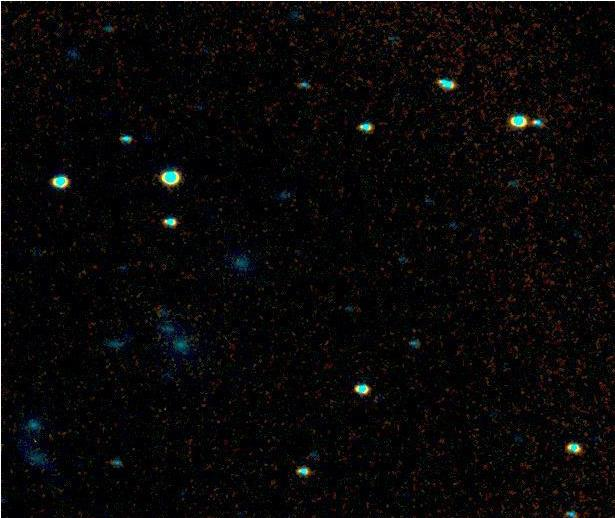star: (114, 321, 144, 351)
